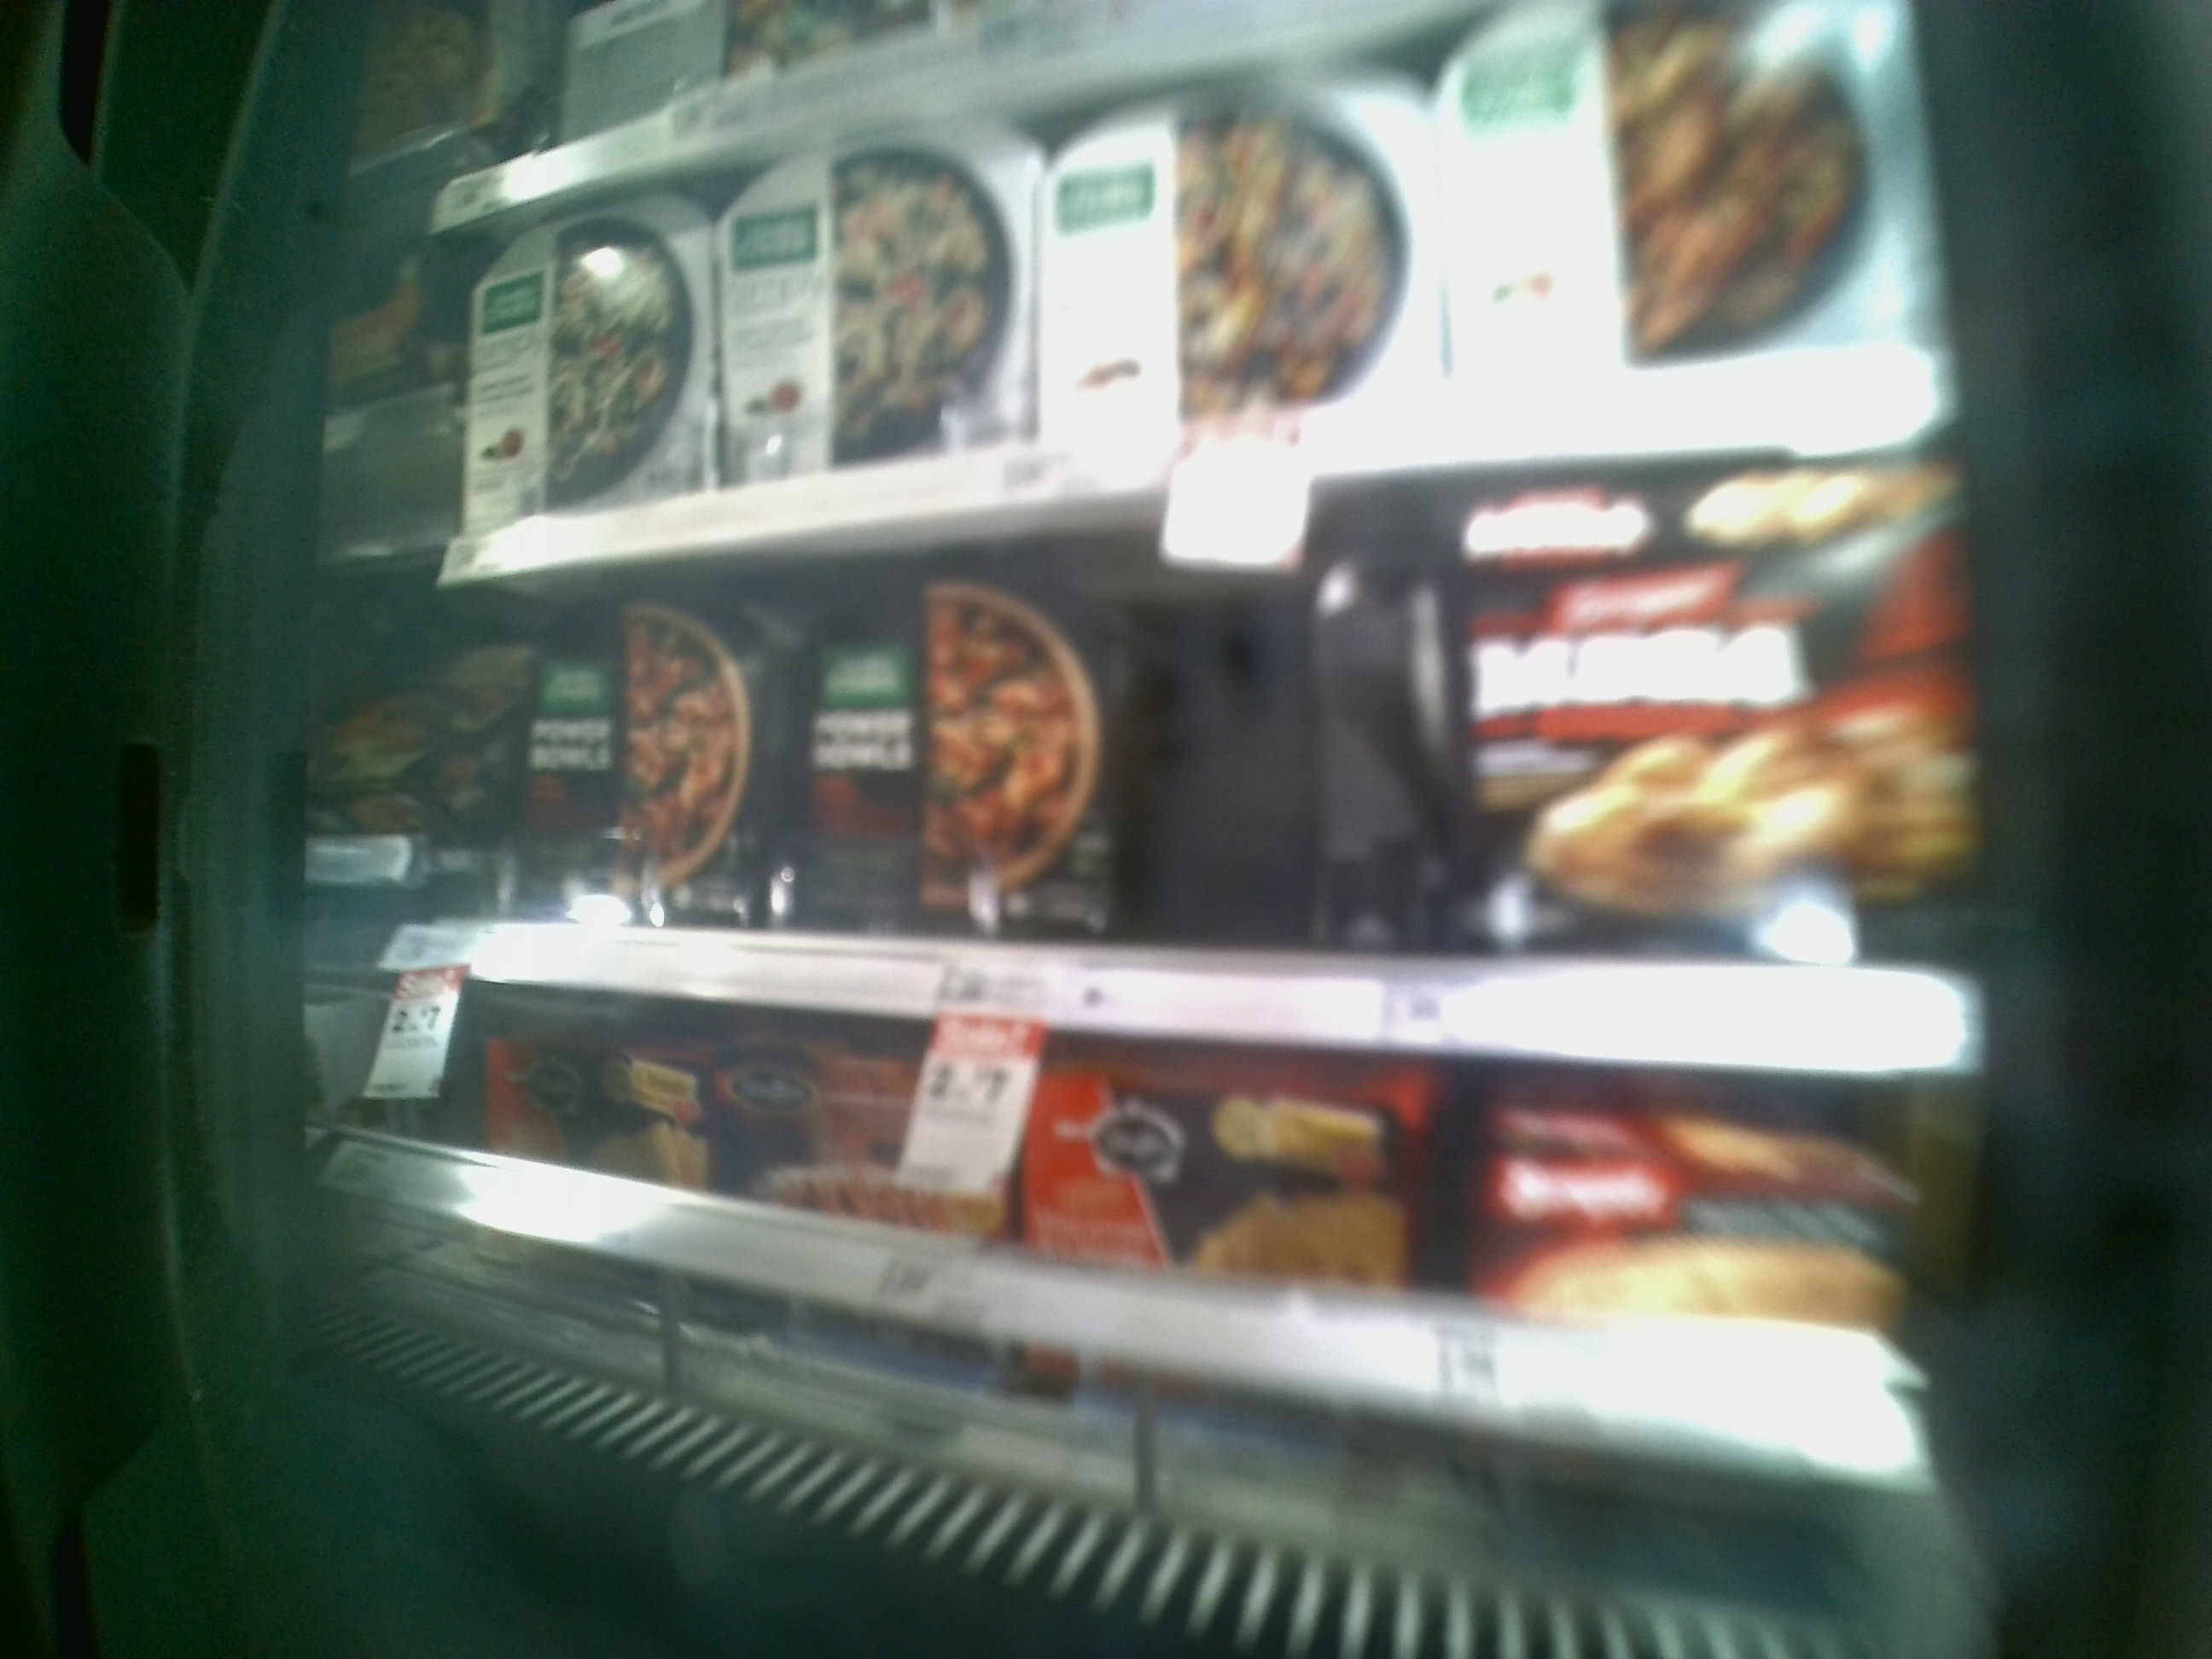pizza: (1460, 472, 1942, 924), (1426, 0, 1872, 385), (1038, 85, 1425, 436), (773, 577, 1111, 918), (712, 125, 1035, 481), (507, 566, 763, 911), (462, 200, 718, 502)
